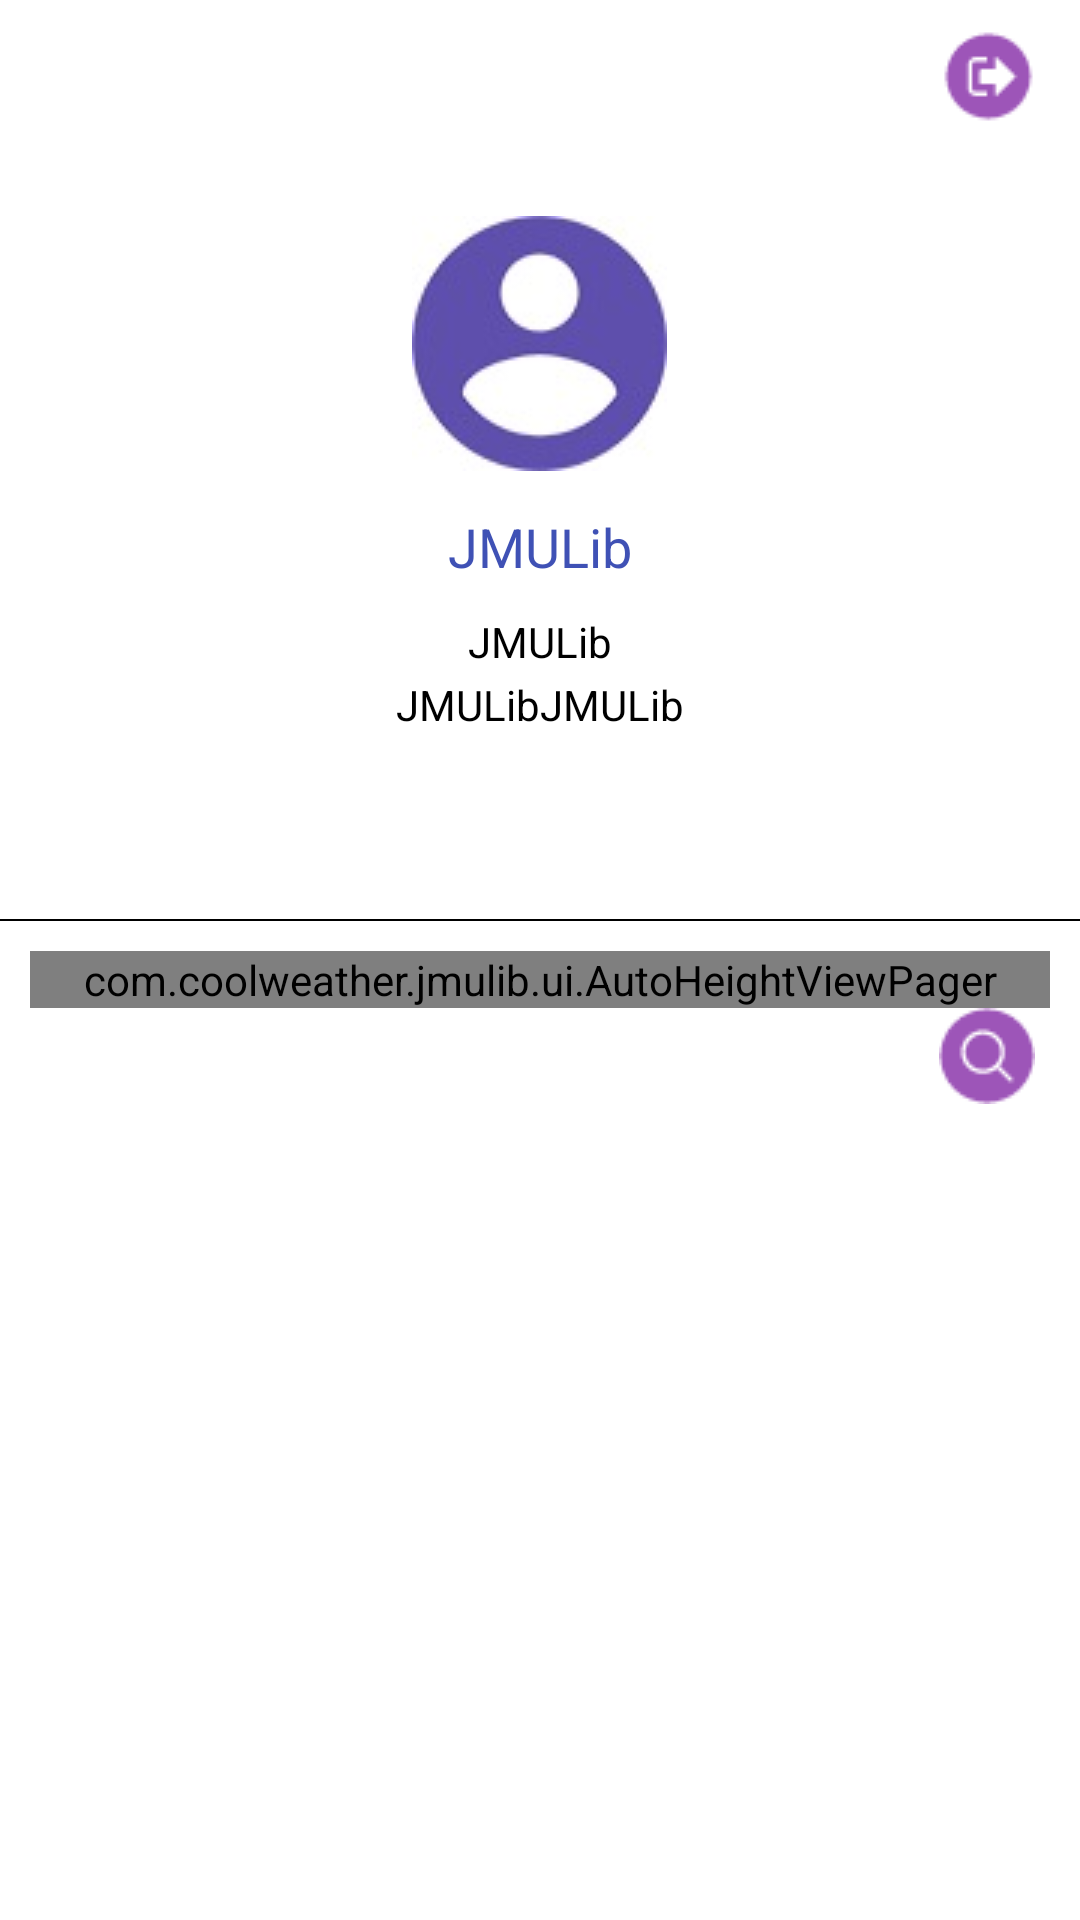

Where to tap for icons on this 1080 x 1920 app screen, as (x=x, y=y):
exit: (x=988, y=76)
user: (x=539, y=343)
